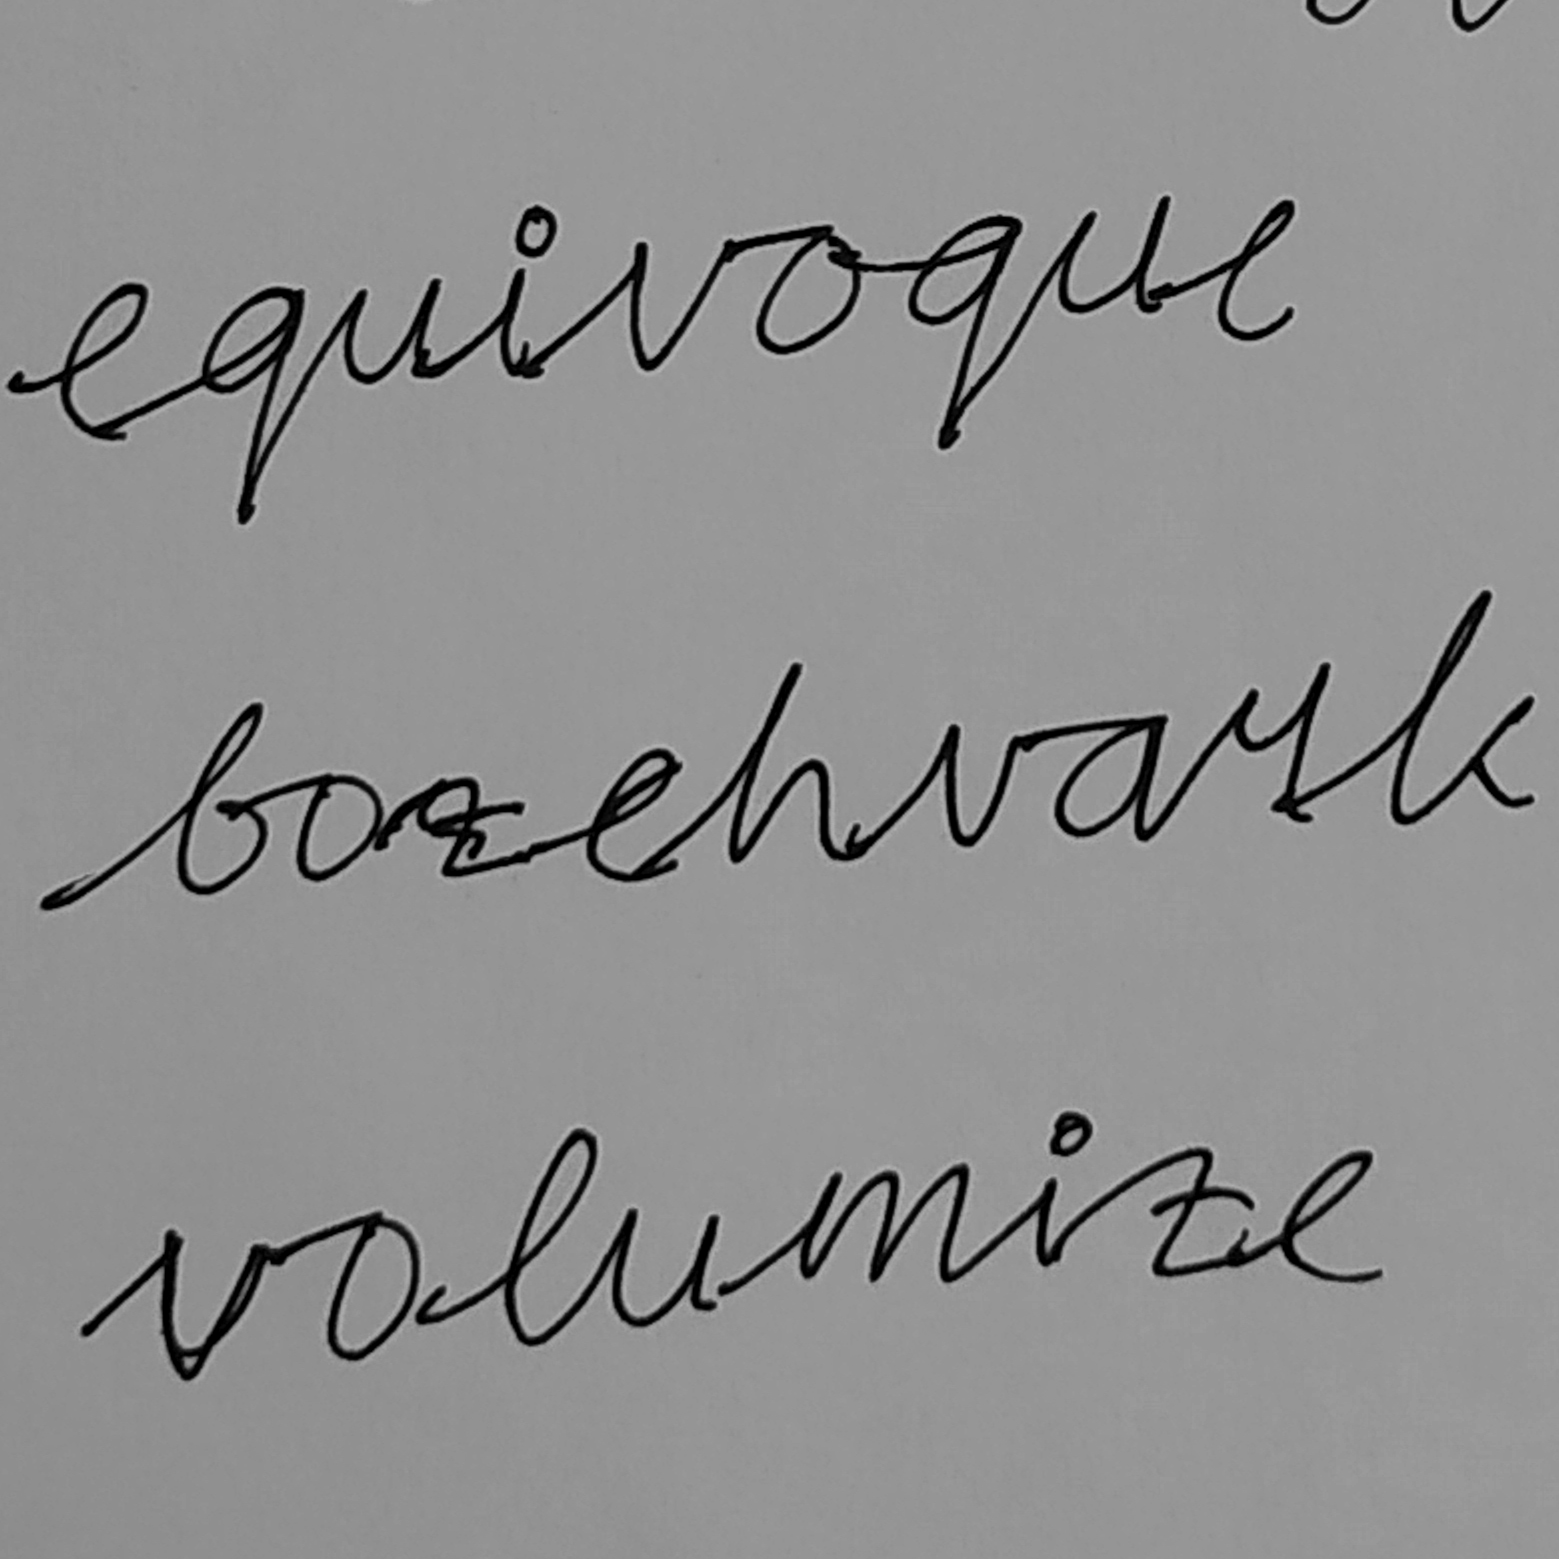a: (1048, 710, 1174, 849)
b: (171, 700, 276, 899)
c: (582, 744, 688, 888)
h: (721, 657, 857, 869)
k: (1385, 584, 1543, 832)
o: (293, 767, 387, 887)
r: (1214, 660, 1341, 829)
v: (932, 720, 1026, 852)
z: (414, 771, 538, 882)
